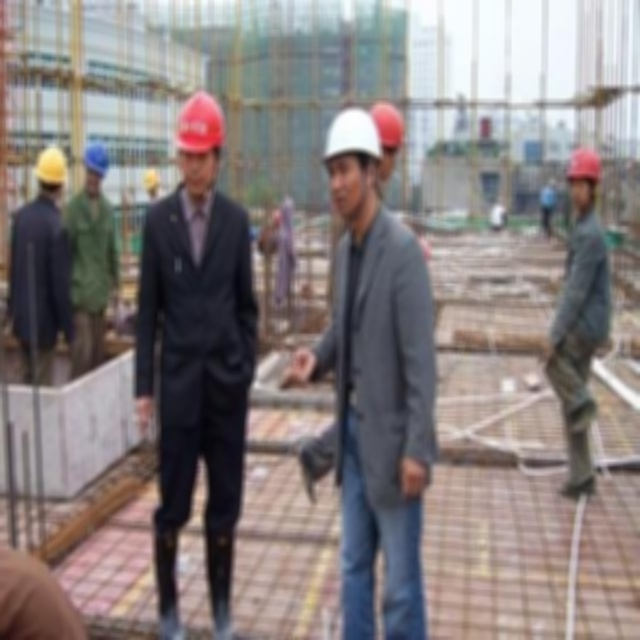Con_Casco: (323, 108, 377, 219), (174, 93, 224, 190)
Sin_Chaleco: (139, 196, 249, 395), (333, 232, 421, 423)
